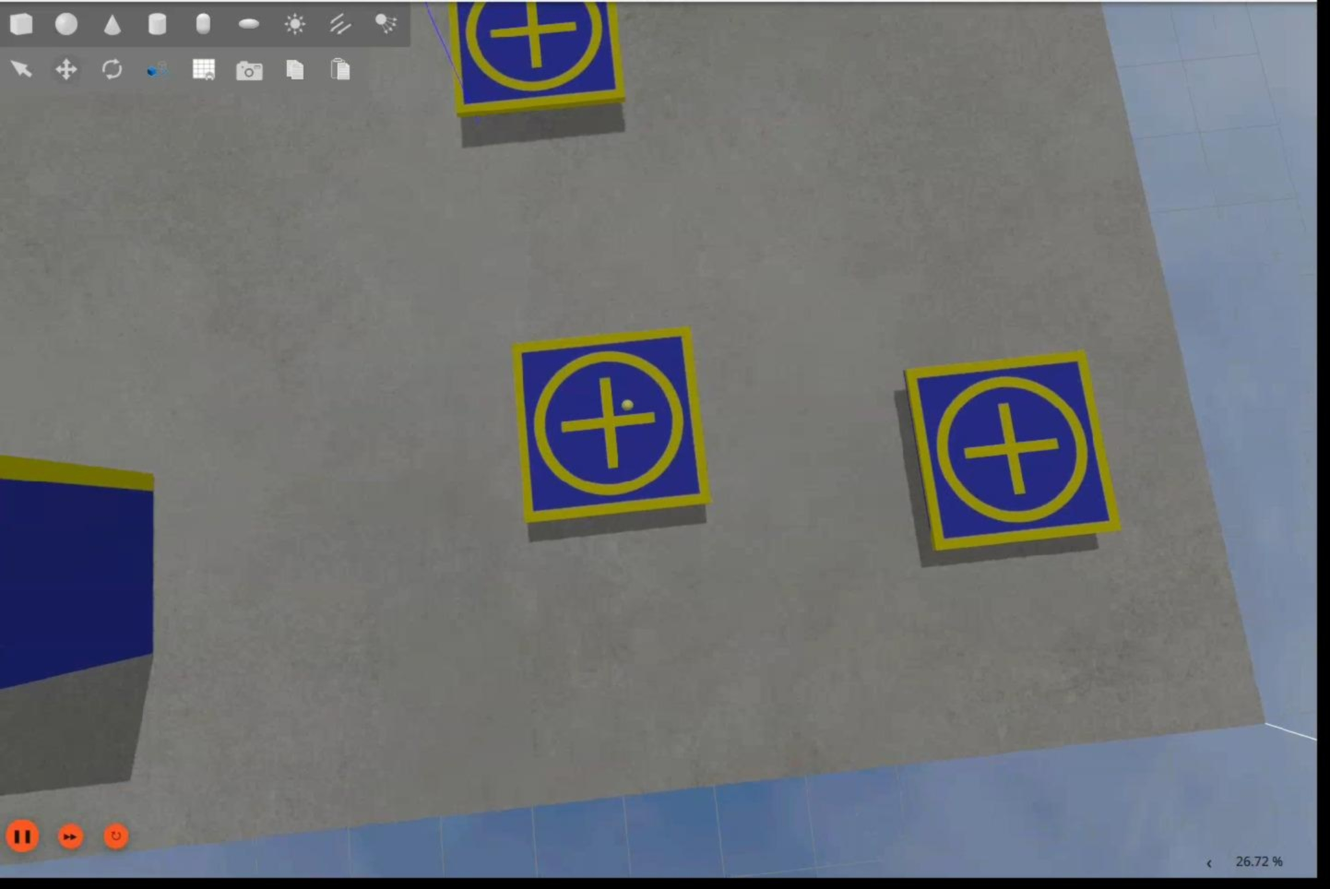small_base: (903, 350, 1122, 554), (513, 328, 712, 530), (448, 1, 625, 120)
